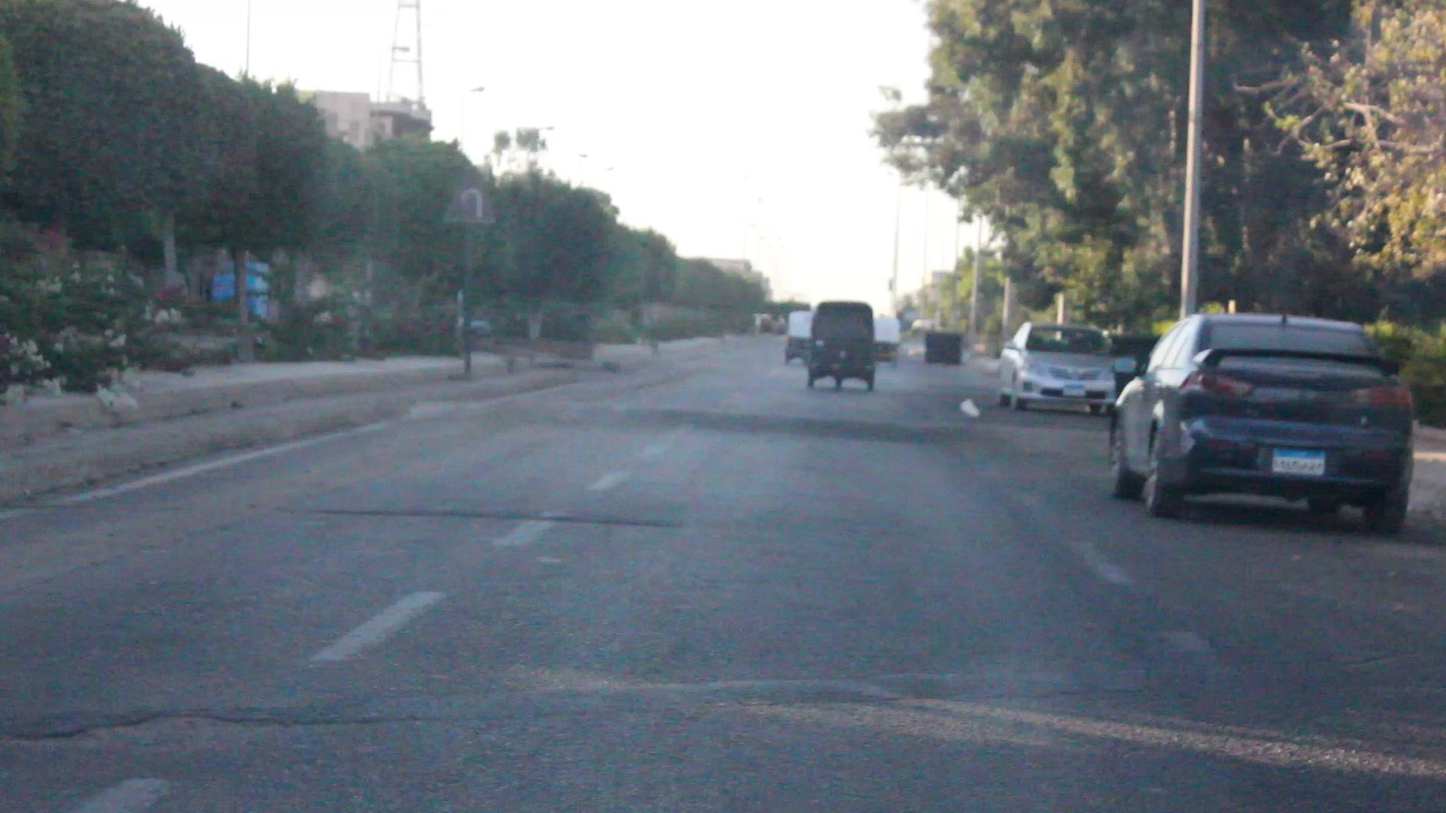Bump: (501, 401, 1128, 455)
